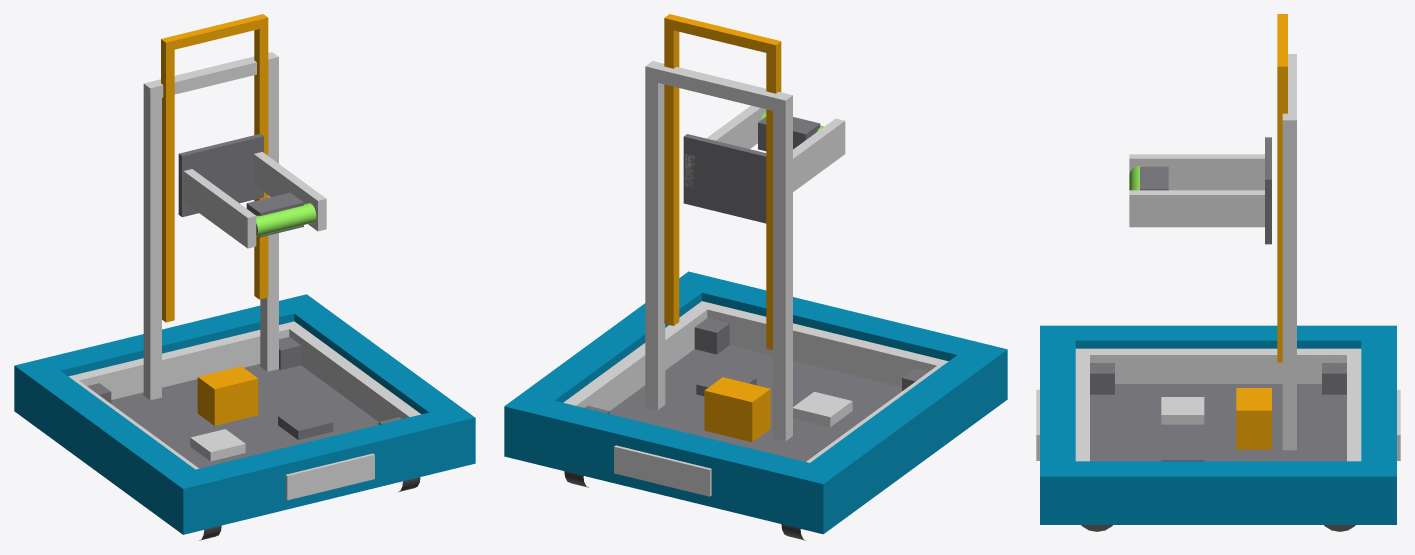
Rendered from frc_robot.glb.
The picture shows the model from 3 angles, left to right: view 1: azimuth 30°, elevation 25°; view 2: azimuth 150°, elevation 25°; view 3: azimuth 270°, elevation 25°; orthographic projection. The views are drawn at different scales.
Parts seen in each view (by area): view 1: Bumper_Front, Electronics_Board, Bumper_Left, Bumper_Back, Elevator_L1, Frame_Back, Bumper_Right, Frame_Right, Carriage_Plate, Elevator_L2, Elevator_R1, Battery (+12 smaller); view 2: Bumper_Back, Bumper_Left, Electronics_Board, Bumper_Front, Elevator_R1, Elevator_L1, Frame_Front, Carriage_Plate, Bumper_Right, Elevator_R2, Frame_Right, Battery (+11 smaller); view 3: Bumper_Right, Electronics_Board, Frame_Left, Bumper_Front, Bumper_Back, Bumper_Left, Intake_Arm_Right, Elevator_R1, Intake_Arm_Left, Battery, Elevator_R2, Frame_Front (+9 smaller).
Part boxes in pixels (x1,y1,x2,y2): Bumper_Front: (166, 405, 475, 534); Electronics_Board: (111, 364, 378, 466); Bumper_Left: (31, 371, 194, 521); Bumper_Back: (14, 294, 323, 423); Elevator_L1: (143, 90, 161, 400); Frame_Back: (72, 324, 289, 399); Bumper_Right: (294, 306, 458, 414); Frame_Right: (283, 321, 421, 421); Carriage_Plate: (178, 133, 263, 217); Elevator_L2: (161, 44, 174, 322); Elevator_R1: (260, 63, 278, 371); Battery: (197, 366, 258, 425); Bumper_Back: (504, 393, 841, 534); Bumper_Left: (810, 355, 989, 520); Electronics_Board: (610, 345, 901, 459); Bumper_Front: (679, 271, 1007, 412); Elevator_R1: (645, 73, 665, 409); Elevator_L1: (773, 102, 792, 441); Frame_Front: (707, 304, 943, 386); Carriage_Plate: (683, 134, 766, 223); Bumper_Right: (523, 287, 701, 402); Elevator_R2: (664, 23, 679, 325); Frame_Right: (563, 301, 714, 410); Battery: (704, 377, 770, 442); Bumper_Right: (1075, 461, 1361, 524); Electronics_Board: (1090, 384, 1346, 461); Frame_Left: (1075, 348, 1361, 383); Bumper_Front: (1040, 325, 1075, 524); Bumper_Back: (1361, 325, 1396, 524); Bumper_Left: (1075, 325, 1361, 348); Intake_Arm_Right: (1129, 190, 1264, 227); Elevator_R1: (1282, 127, 1296, 450); Intake_Arm_Left: (1129, 154, 1264, 190); Battery: (1236, 388, 1271, 449); Elevator_R2: (1277, 71, 1287, 362); Frame_Front: (1075, 355, 1089, 461).
Size of the model in its own units: 1 by 1.38 by 1.02.
